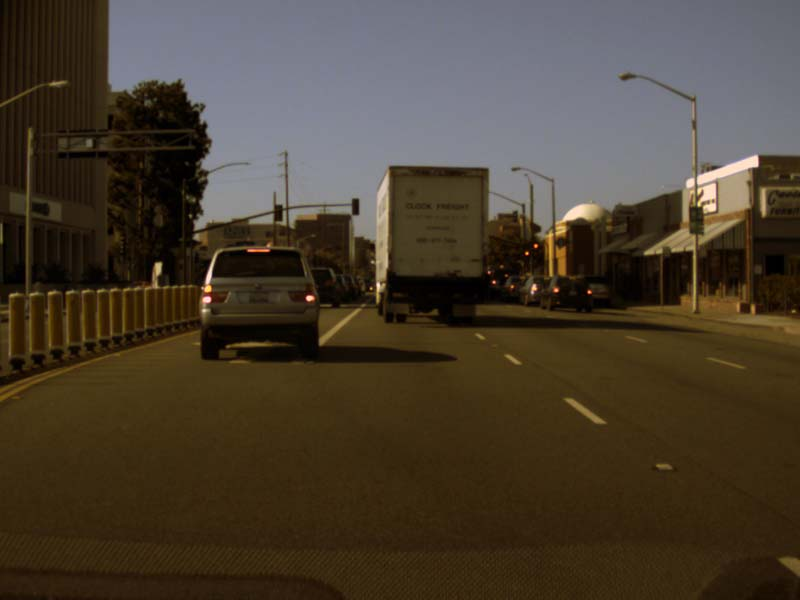Red: (532, 241, 537, 249), (523, 250, 529, 256)
